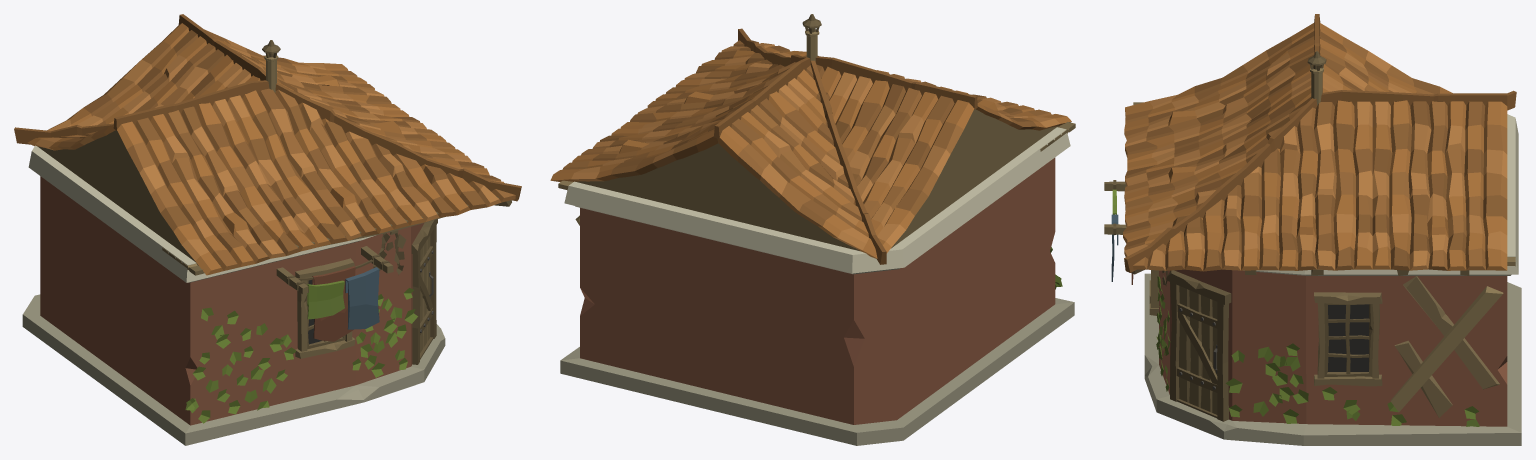
The model's file is Building_5.fbx.
3 renders of one model, left to right at view 1: azimuth 30°, elevation 25°; view 2: azimuth 150°, elevation 25°; view 3: azimuth 270°, elevation 25°, orthographic. The views are drawn at different scales.
Visible parts, largest first — view 1: Building_5; view 2: Building_5; view 3: Building_5.
Boxes of the visible parts, x1,y1,x2,y2 form: Building_5: (14,14,521,445); Building_5: (550,14,1075,445); Building_5: (1104,14,1521,445).
Bounding box in the file's own units: 693 × 615 × 724.
